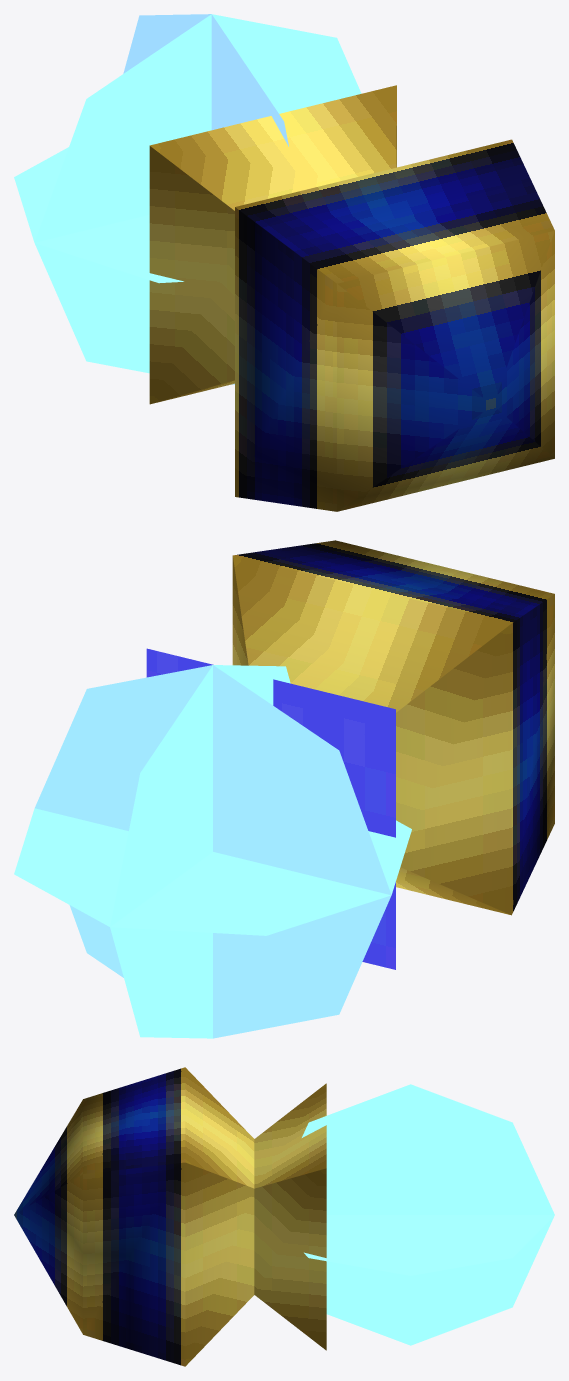
File: mp-obj049-shell-mortar.glb
3 renders of one model, top to bottom at view 1: azimuth 30°, elevation 25°; view 2: azimuth 150°, elevation 25°; view 3: azimuth 270°, elevation 25°, orthographic. The views are drawn at different scales.
Parts seen in each view (by area): view 1: Mp_obj_049; view 2: Mp_obj_049; view 3: Mp_obj_049.
Part boxes in pixels (x1,y1,x2,y2): Mp_obj_049: (14,14,554,511); Mp_obj_049: (14,540,554,1038); Mp_obj_049: (14,1067,554,1366).
Size of the model in its own units: 0.1875 by 0.1875 by 0.3516.
2 materials, 1 textured.
